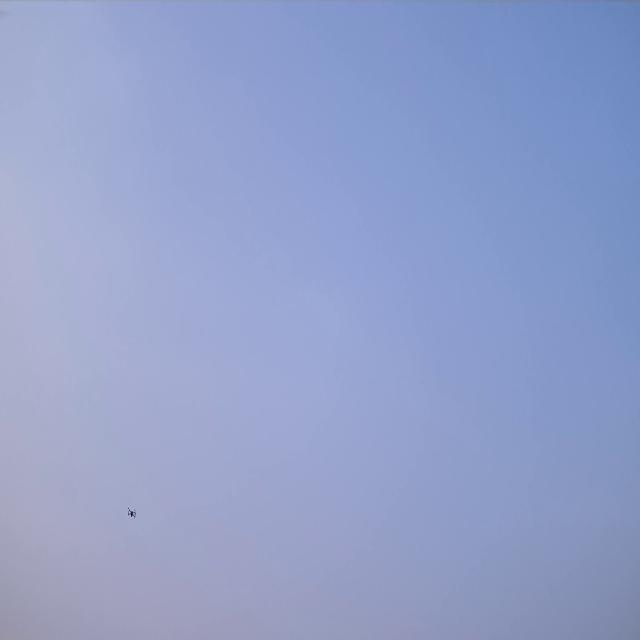UAV: (126, 506, 136, 520)
